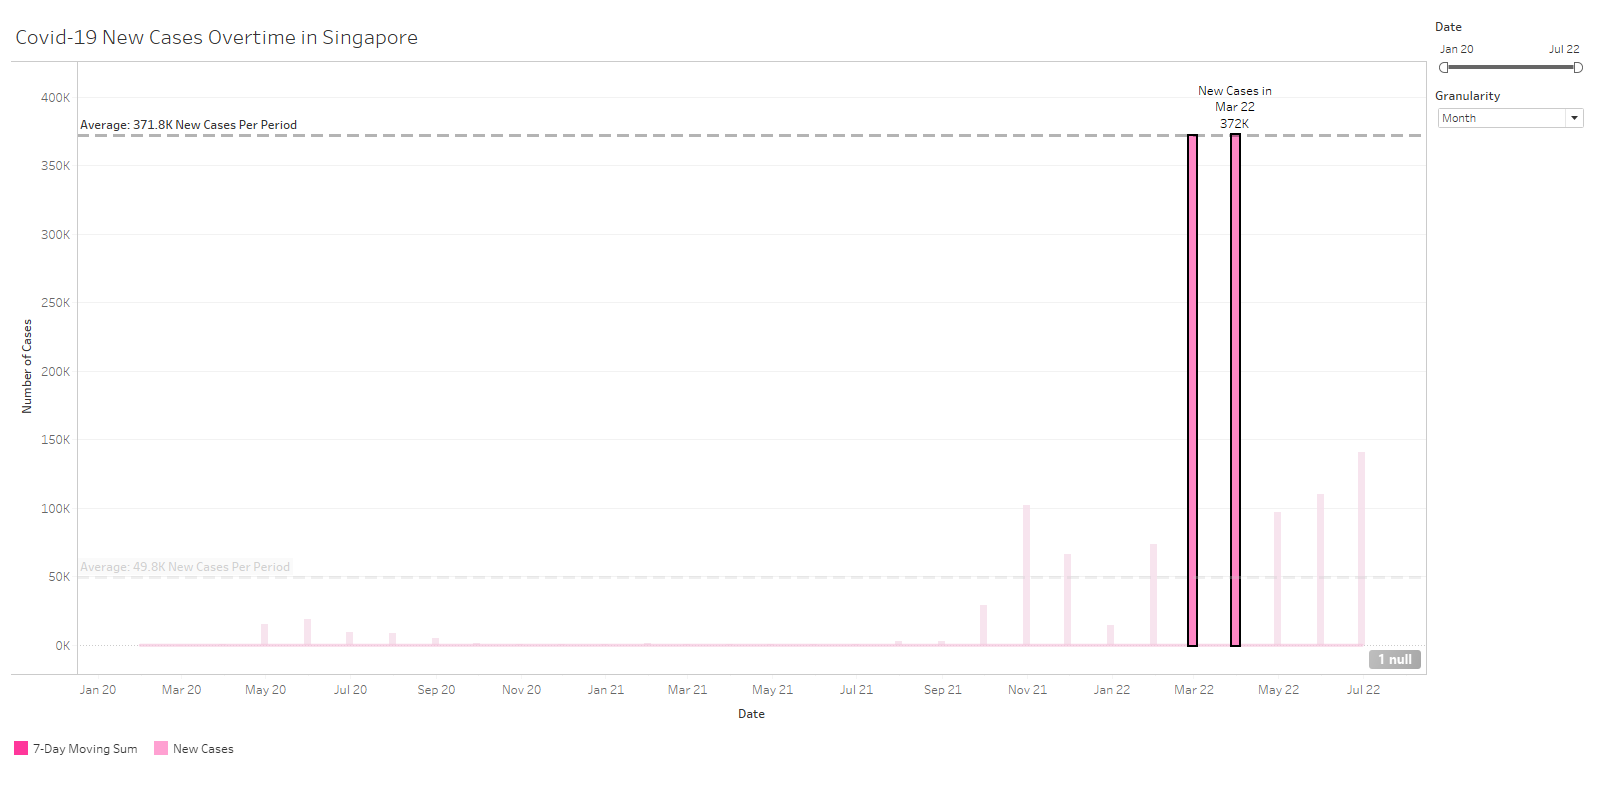

The page's visual inventory and layout, read from the dashboard file:
{"tool":"tableau","page":{"name":"Covid Overtime","canvas":[1600,768],"ordinal":0},"visuals":[{"type":"worksheet","box":[0,0,1600,768]},{"type":"worksheet","param":"horz","box":[8,8,1584,752]},{"type":"worksheet","box":[8,8,1424,752]},{"type":"worksheet","title":"Covid Over Time (2)","mark":"Bar","rows":["Cases","Calculation_1951184592733175829"],"cols":["Date"],"box":[8,8,1424,720]},{"type":"worksheet","param":"vert","box":[1432,8,160,752]},{"type":"worksheet","title":"Covid Over Time (2)","mark":"Bar","rows":["Cases","Calculation_1951184592733175829"],"cols":["Date"],"param":"[federated.1wi9gg4094e2jk14lor6l1e14swi].[none:Date:qk]","box":[1432,8,160,69]},{"type":"worksheet","param":"[Parameters].[Parameter 1]","box":[1432,77,160,52]},{"type":"worksheet","title":"Covid Over Time (2)","mark":"Bar","rows":["Cases","Calculation_1951184592733175829"],"cols":["Date"],"param":"[federated.1wi9gg4094e2jk14lor6l1e14swi].[:Measure Names]","box":[8,728,1424,32]}]}

Visuals, with their boxes in screenshot pixels (x1, y1, x2, y2), scaled from the page's 1600x768 canvas onto the 1606x792 screenshot:
worksheet: [x1=0, y1=0, x2=1605, y2=791]
worksheet: [x1=8, y1=8, x2=1598, y2=784]
worksheet: [x1=8, y1=8, x2=1437, y2=784]
"Covid Over Time (2)" worksheet (Bar marks): [x1=8, y1=8, x2=1437, y2=751]
worksheet: [x1=1437, y1=8, x2=1598, y2=784]
"Covid Over Time (2)" worksheet (Bar marks): [x1=1437, y1=8, x2=1598, y2=79]
worksheet: [x1=1437, y1=79, x2=1598, y2=133]
"Covid Over Time (2)" worksheet (Bar marks): [x1=8, y1=751, x2=1437, y2=784]
